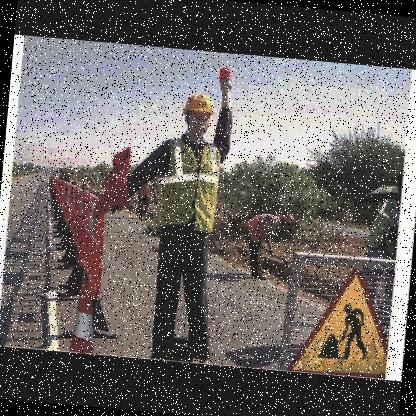Mannequin: (95, 56, 238, 364)
